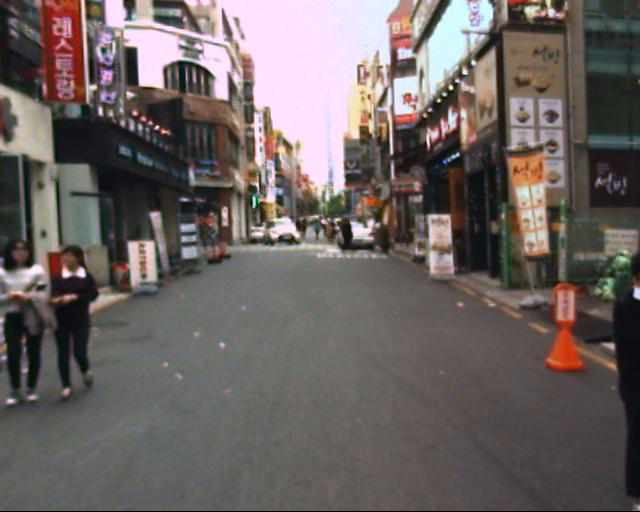person: (42, 227, 104, 412), (6, 219, 51, 415), (334, 211, 359, 260), (318, 207, 342, 253), (306, 206, 331, 250)
